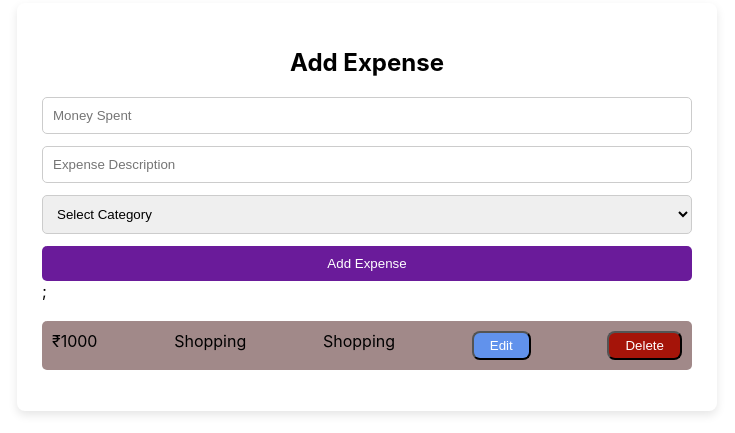
Test case: Async test cases › Update expenses on submit
Click the button "Edit" at point(501, 345), box x1=472 y1=331 x2=531 y2=360
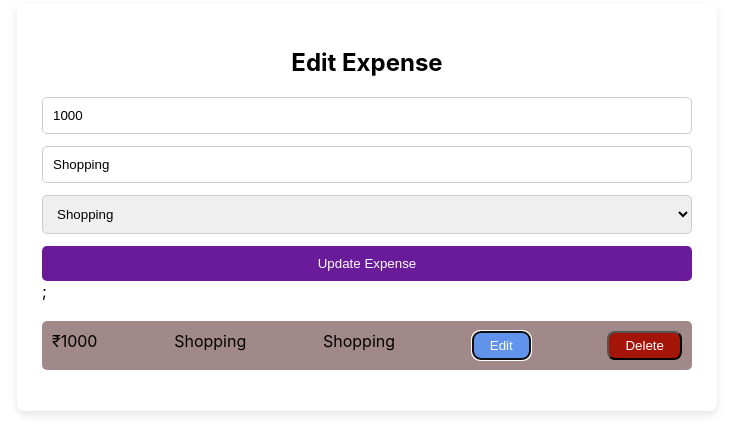
Replace the text in the number field with placeholder "Money Spent" with "1200" at point(367, 115), box x1=42 y1=97 x2=692 y2=134
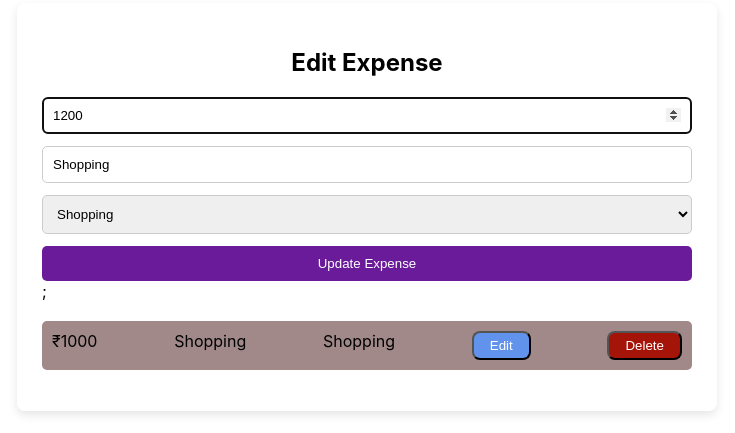
Click the button "Update Expense" at point(367, 263), box x1=42 y1=246 x2=692 y2=281
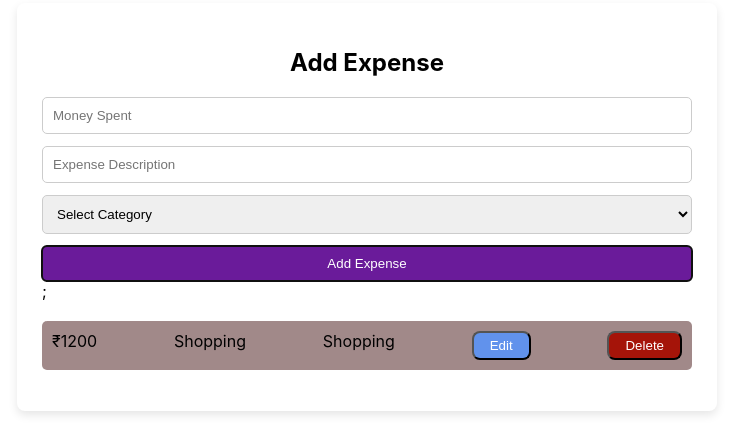
Now the text "₹1200" is shown, box x1=52 y1=331 x2=97 y2=360
